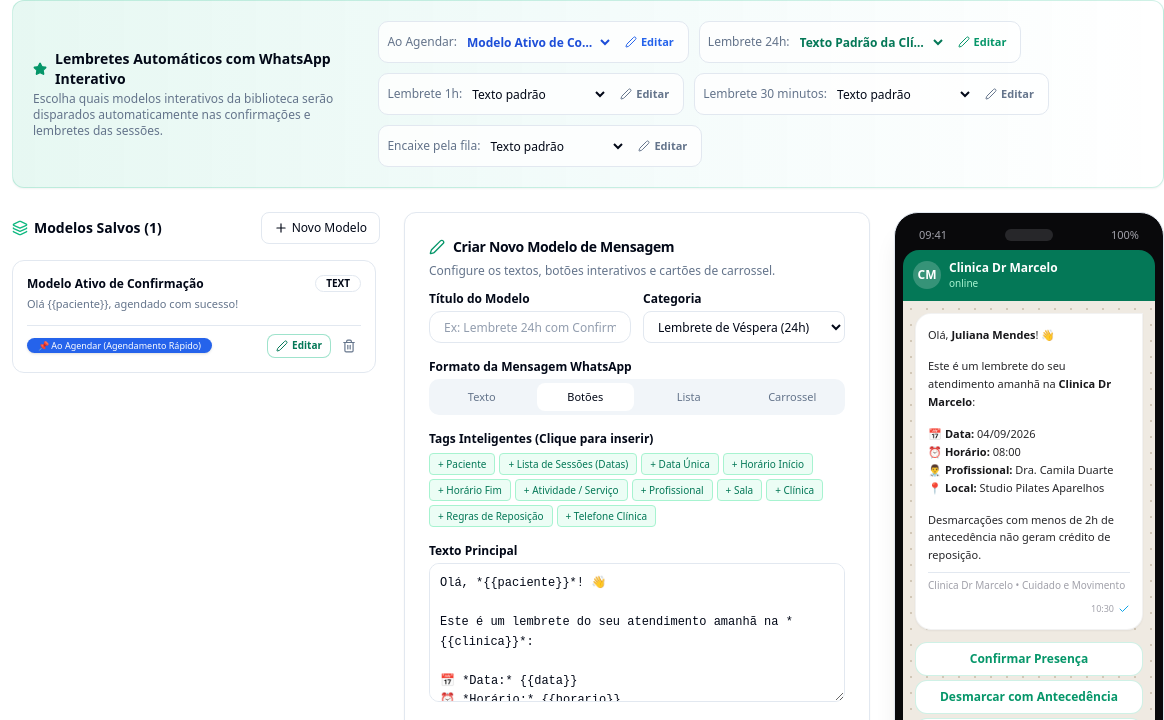
Test: clicar no botão Editar ao lado do seletor Ao Agendar carrega o template atribuído
Click the button titled "Editar modelo de confirmação ao agendar (Agendamento Rápido)" in the row of "Ao Agendar:" at coordinates (649, 42), box [619, 30, 680, 54]
(page scrolled)
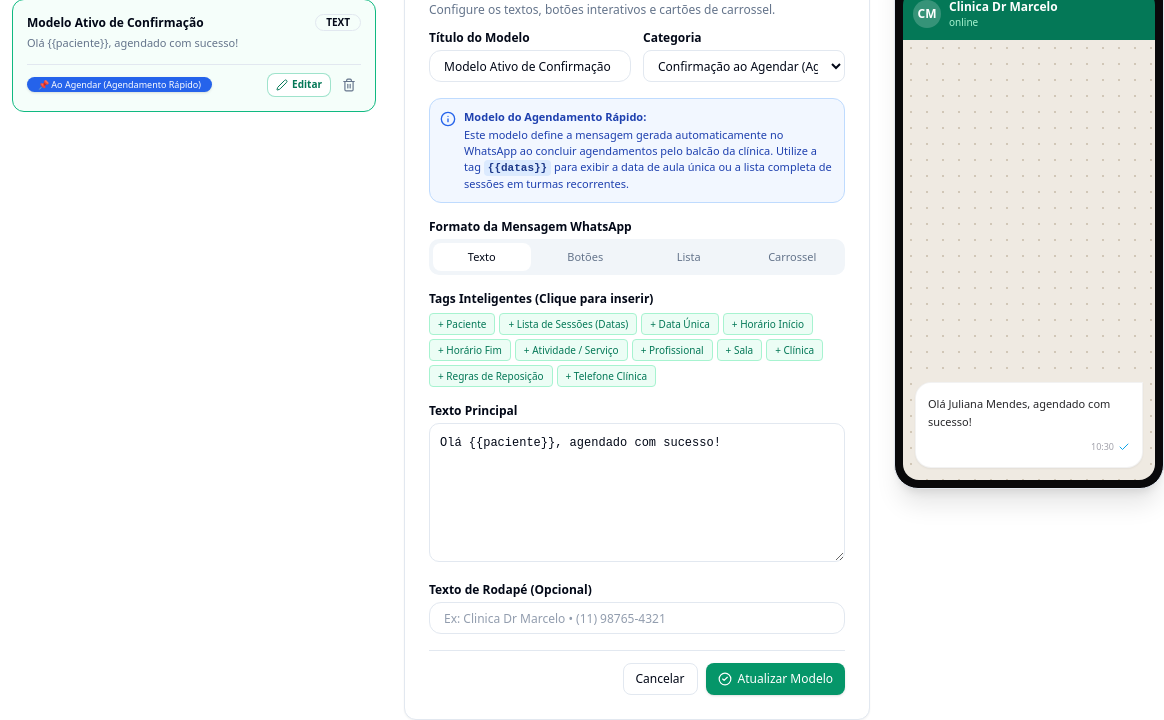
Check: the text box is shown, box [429, 423, 845, 562]
Check: the field showing "Modelo Ativo de Confirmação" is shown, box [429, 50, 631, 82]
